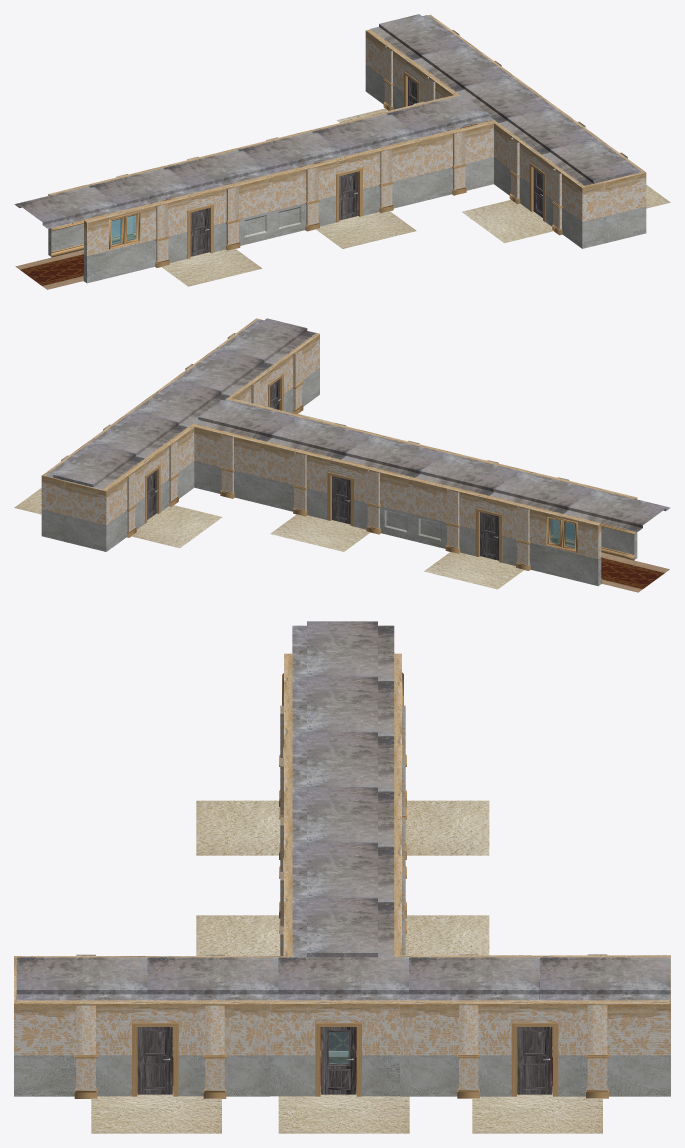
File: corridor_hotel.fbx
3 renders of one model, top to bottom at view 1: azimuth 30°, elevation 25°; view 2: azimuth 150°, elevation 25°; view 3: azimuth 270°, elevation 25°, orthographic. The views are drawn at different scales.
Visible parts, largest first — view 1: Plane.020, parede_sul_CO.015, Plane.029, parede_sul_CO.018, parque_CS.049, parque_CS.023, parque_CS.001, parque_CS.000, parede_sul_CO.013, porta_OP2.006, Plane.019; view 2: Plane.020, parede_sul_CO.015, Plane.029, parede_sul_CO.018, parque_CS.049, parque_CS.023, parque_CS.001, parque_CS.000, parede_sul_CO.013, porta_OP2.006, Plane.019; view 3: Plane.020, Plane.029, parede_sul_CO.015, parede_sul_CO.018, parque_CS.000, parque_CS.049, porta_OP2.006, porta_OP3, parque_CS.023, parque_CS.001, Plane.019, parede_sul_CO.013.
Boxes of the visible parts, x1=… form: Plane.020: x1=14, y1=14, x2=641, y2=228; parede_sul_CO.015: x1=123, y1=32, x2=621, y2=262; Plane.029: x1=161, y1=108, x2=670, y2=286; parede_sul_CO.018: x1=365, y1=14, x2=646, y2=248; parque_CS.049: x1=116, y1=30, x2=627, y2=267; parque_CS.023: x1=48, y1=176, x2=161, y2=283; parque_CS.001: x1=197, y1=139, x2=309, y2=245; parque_CS.000: x1=346, y1=64, x2=578, y2=208; parede_sul_CO.013: x1=421, y1=78, x2=517, y2=195; porta_OP2.006: x1=151, y1=77, x2=542, y2=256; Plane.019: x1=15, y1=122, x2=484, y2=289; Plane.020: x1=45, y1=318, x2=670, y2=531; parede_sul_CO.015: x1=66, y1=336, x2=562, y2=565; Plane.029: x1=14, y1=414, x2=523, y2=589; parede_sul_CO.018: x1=41, y1=318, x2=319, y2=551; parque_CS.049: x1=61, y1=333, x2=569, y2=570; parque_CS.023: x1=524, y1=479, x2=637, y2=586; parque_CS.001: x1=376, y1=443, x2=488, y2=548; parque_CS.000: x1=109, y1=367, x2=340, y2=511; parede_sul_CO.013: x1=169, y1=382, x2=268, y2=498; porta_OP2.006: x1=147, y1=379, x2=521, y2=560; Plane.019: x1=204, y1=426, x2=669, y2=592; Plane.020: x1=16, y1=621, x2=670, y2=1000; Plane.029: x1=91, y1=800, x2=602, y2=1133; parede_sul_CO.015: x1=87, y1=709, x2=597, y2=1096; parede_sul_CO.018: x1=14, y1=955, x2=670, y2=1096; parque_CS.000: x1=216, y1=875, x2=465, y2=1096; parque_CS.049: x1=74, y1=705, x2=608, y2=1098; porta_OP2.006: x1=137, y1=982, x2=552, y2=1094; porta_OP3: x1=321, y1=1027, x2=356, y2=1094; parque_CS.023: x1=282, y1=653, x2=403, y2=709; parque_CS.001: x1=284, y1=764, x2=401, y2=819; Plane.019: x1=172, y1=1027, x2=552, y2=1092; parede_sul_CO.013: x1=219, y1=928, x2=467, y2=957.
Size of the model in its own units: 3006 by 349 by 2014.
